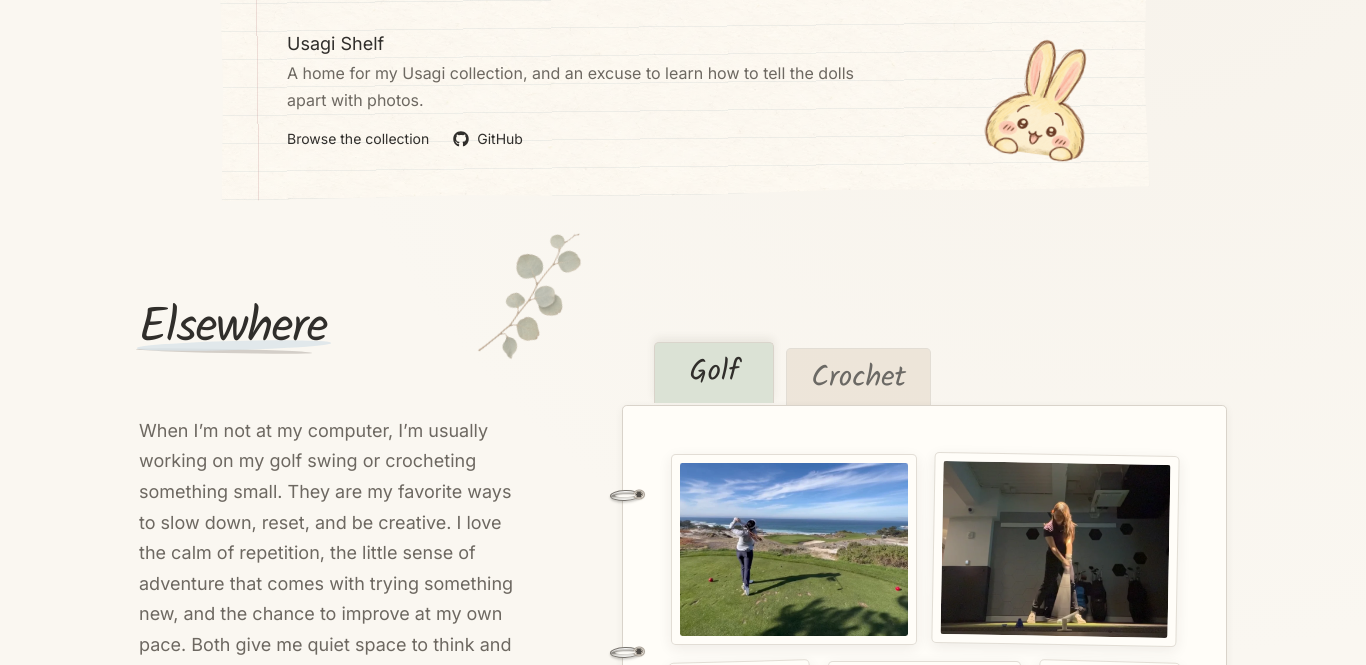
it: App › switches between five-image hobby galleries
(page scrolled)
Expected: the picture named "Emma finishing a golf swing on a coastal course" is shown, [680, 463, 908, 636]
Click the tab "Crochet": (859, 378) [786, 348, 931, 409]
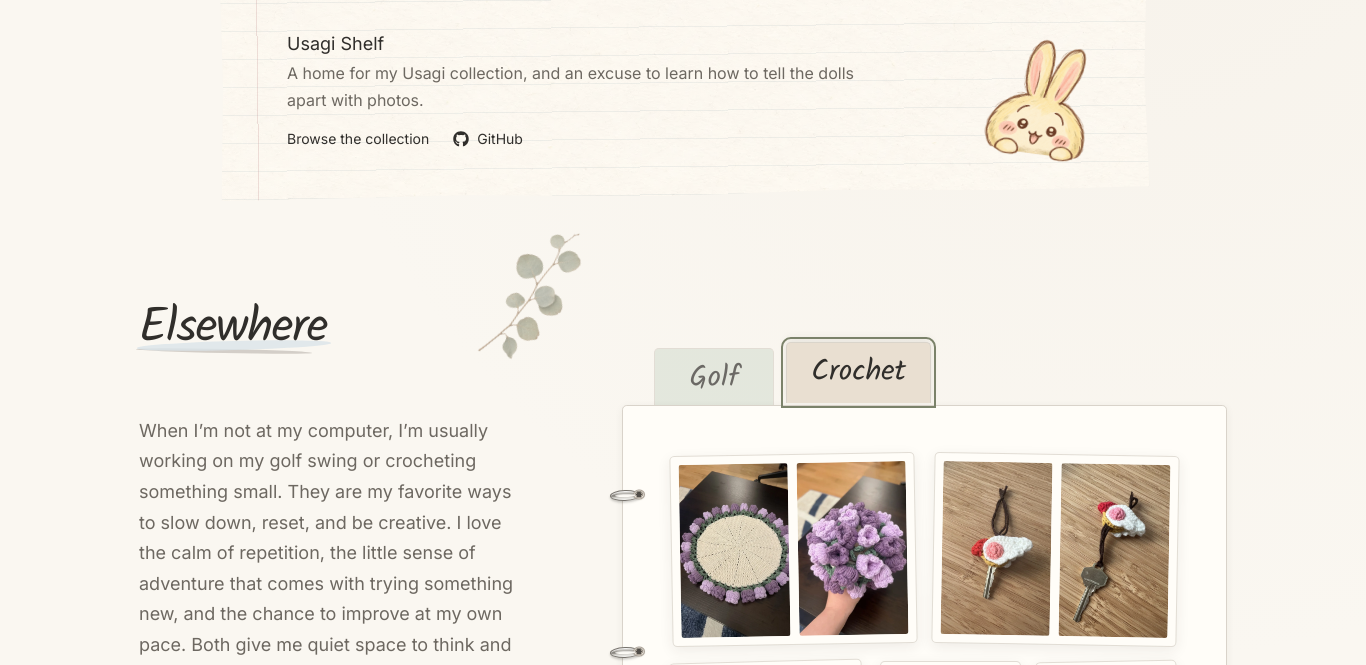
Expected: the picture named "A flat crocheted circle edged with purple tulips" is shown, [679, 463, 791, 638]
Expected: the picture named "The same crochet piece gathered into a bouquet of purple tulips" is shown, [797, 461, 909, 636]
